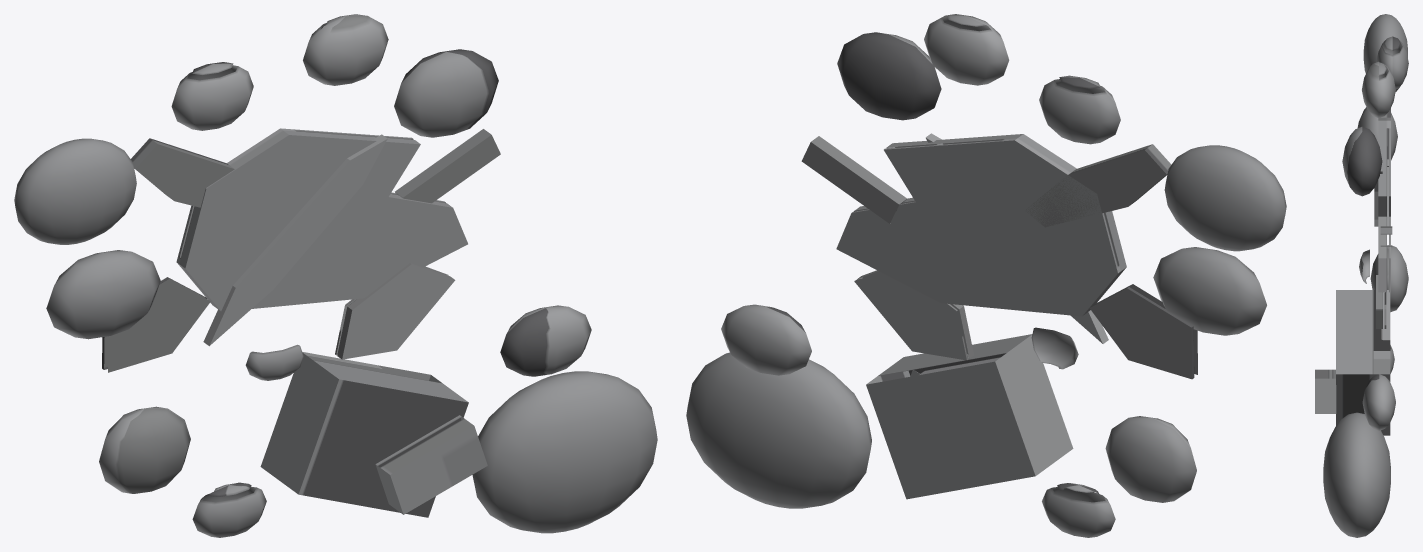
3 renders of one model, left to right at view 1: azimuth 30°, elevation 25°; view 2: azimuth 150°, elevation 25°; view 3: azimuth 270°, elevation 25°, orthographic. The views are drawn at different scales.
Size of the model in its own units: 1.09 by 0.9206 by 0.1993.
